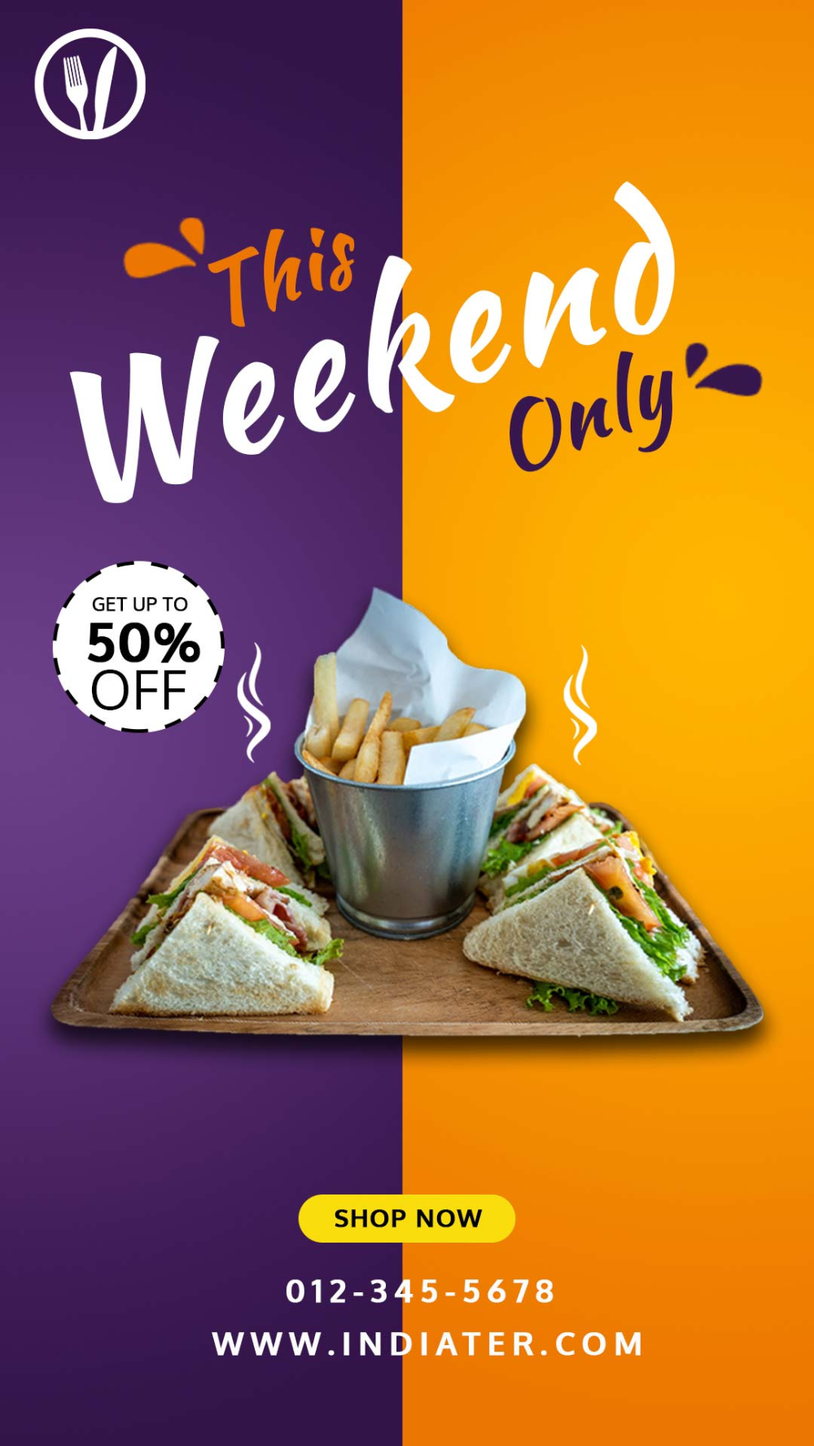CTA: (312, 1197, 515, 1235)
Headline: (52, 195, 780, 496)
Price: (73, 589, 211, 720)
Product: (130, 719, 730, 1019)
